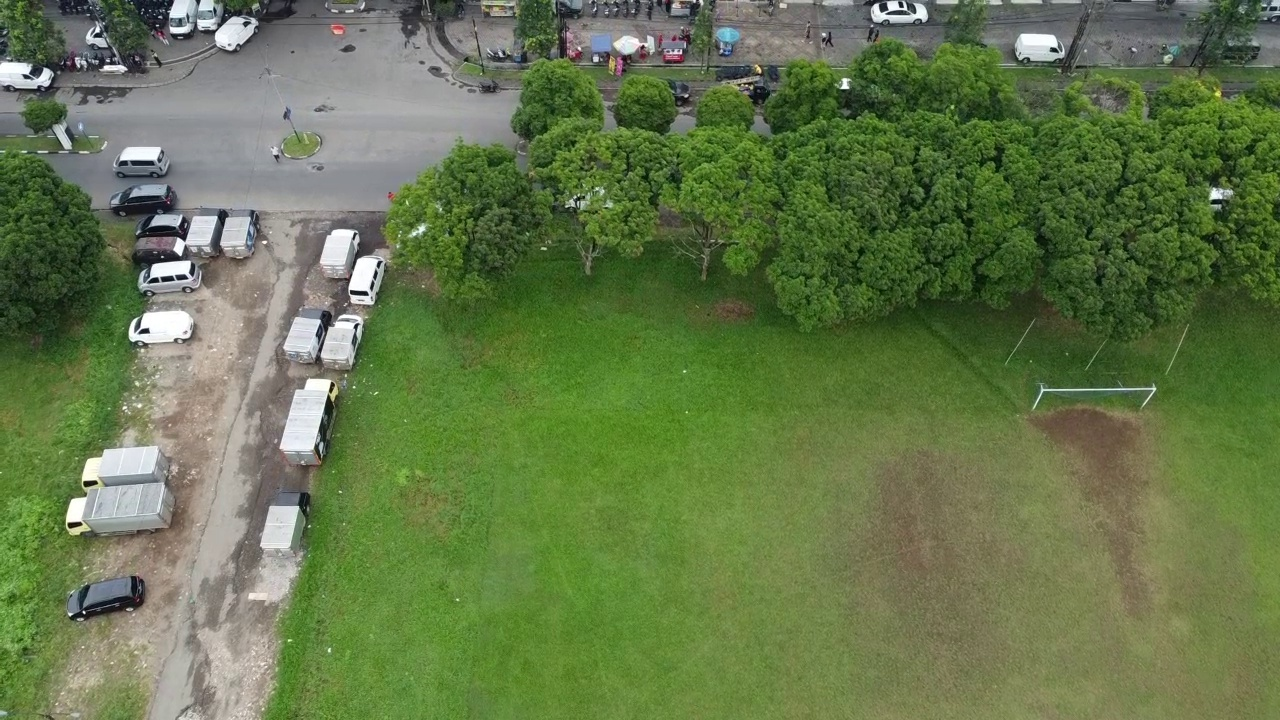mobil: (67, 576, 148, 623), (107, 138, 175, 181), (344, 249, 390, 311), (129, 309, 200, 349), (100, 178, 180, 213), (138, 259, 203, 296), (2, 53, 55, 96), (1014, 28, 1068, 67), (212, 14, 263, 53), (868, 2, 934, 31), (137, 209, 188, 243), (133, 234, 183, 263), (166, 1, 201, 38), (196, 1, 228, 33)
